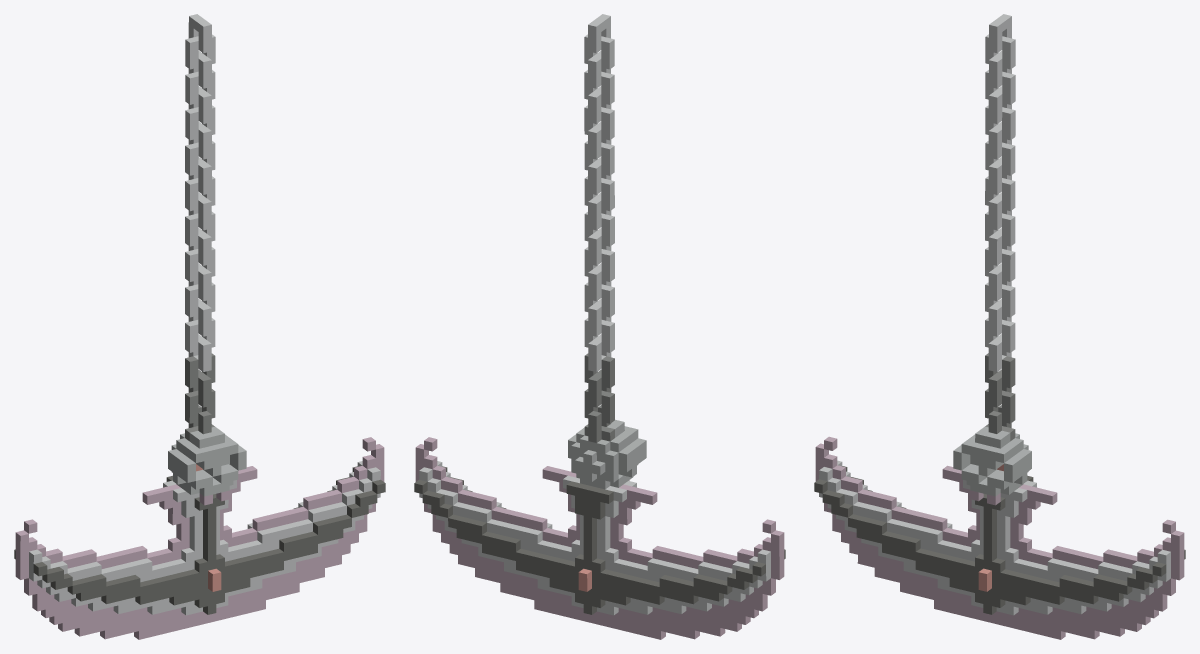
File: StefAxe.fbx
3 renders of one model, left to right at view 1: azimuth 30°, elevation 25°; view 2: azimuth 150°, elevation 25°; view 3: azimuth 330°, elevation 25°, orthographic.
Visible parts, largest first — view 1: StefAxe; view 2: StefAxe; view 3: StefAxe.
Part boxes in pixels (x1=…): StefAxe: x1=14, y1=14, x2=385, y2=639; StefAxe: x1=414, y1=14, x2=785, y2=639; StefAxe: x1=814, y1=14, x2=1185, y2=639.
Bounding box in the file's own units: 43 × 68.01 × 7.
Materials: 1 (1 with a texture image).
